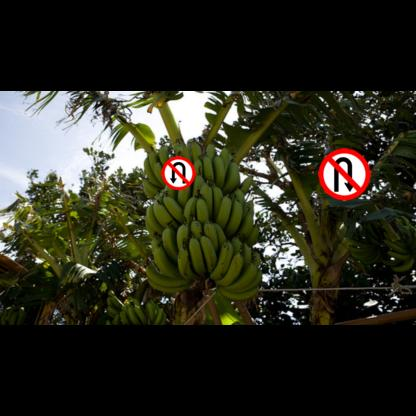R-5a: (161, 156, 196, 190)
